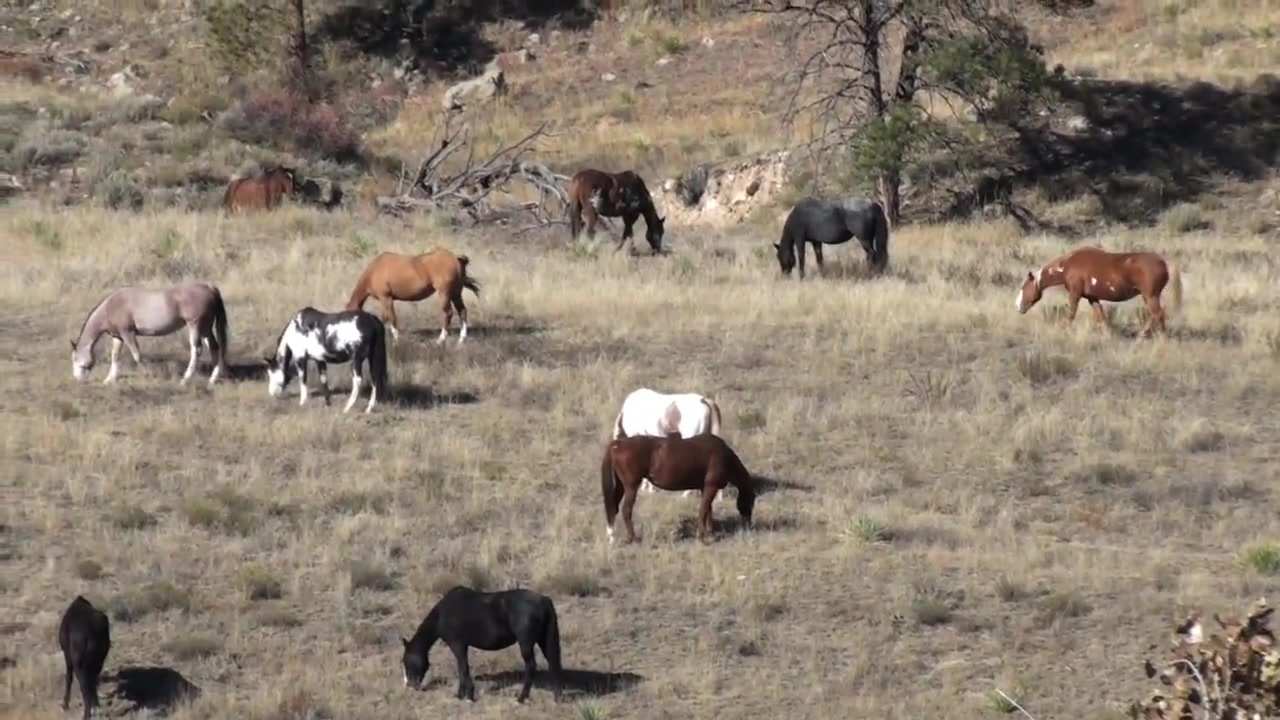horse: (602, 435, 759, 547)
